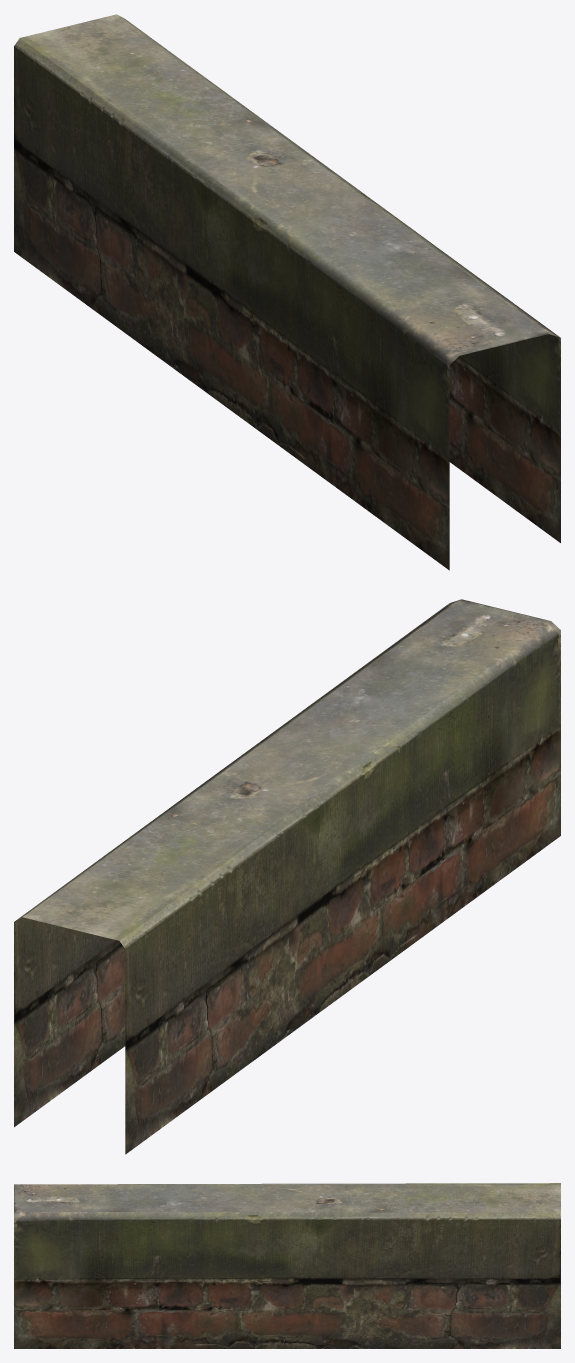
File: sm_PlatformColumns_01_06.fbx
3 views of the same model, one above another, from view 1: azimuth 30°, elevation 25°; view 2: azimuth 150°, elevation 25°; view 3: azimuth 270°, elevation 25° (orthographic). The views are drawn at different scales.
Visible parts, largest first — view 1: sm_PlatformColumns_01_06_LOD0; view 2: sm_PlatformColumns_01_06_LOD0; view 3: sm_PlatformColumns_01_06_LOD0.
Part boxes in pixels (x1,y1,x2,y2): sm_PlatformColumns_01_06_LOD0: [14, 14, 560, 570]; sm_PlatformColumns_01_06_LOD0: [14, 599, 560, 1154]; sm_PlatformColumns_01_06_LOD0: [14, 1183, 560, 1348].
Size of the model in its own units: 19.26 by 131 by 35.11.
